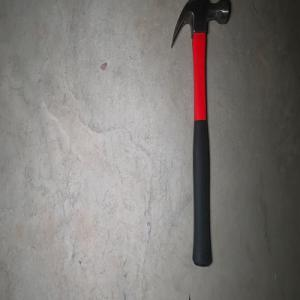Hammer: (170, 0, 231, 267)
